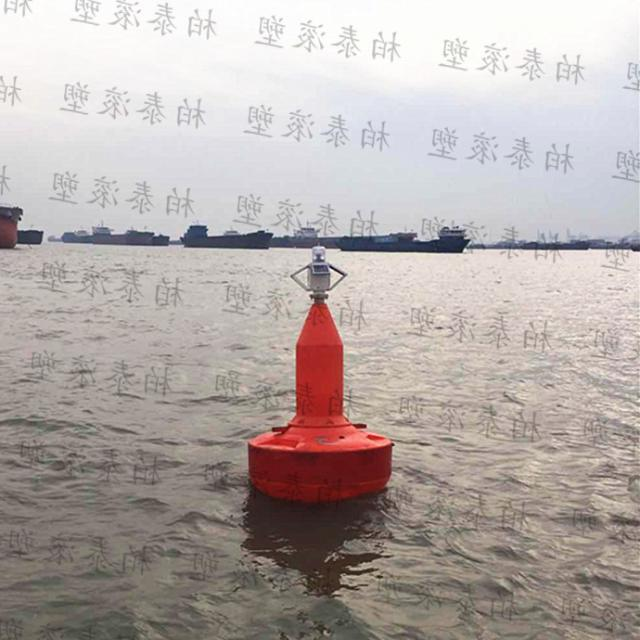buoy: (240, 240, 396, 502)
